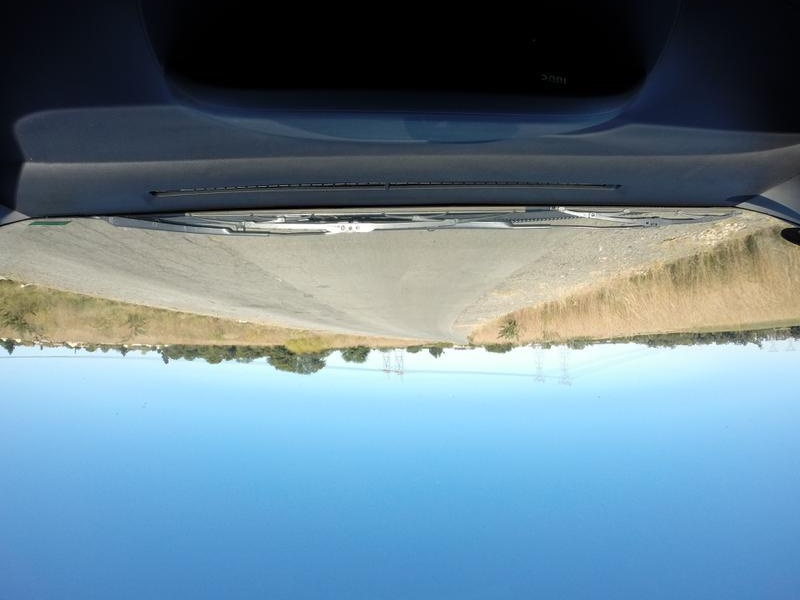pothole: (301, 292, 313, 300), (316, 283, 329, 288)
